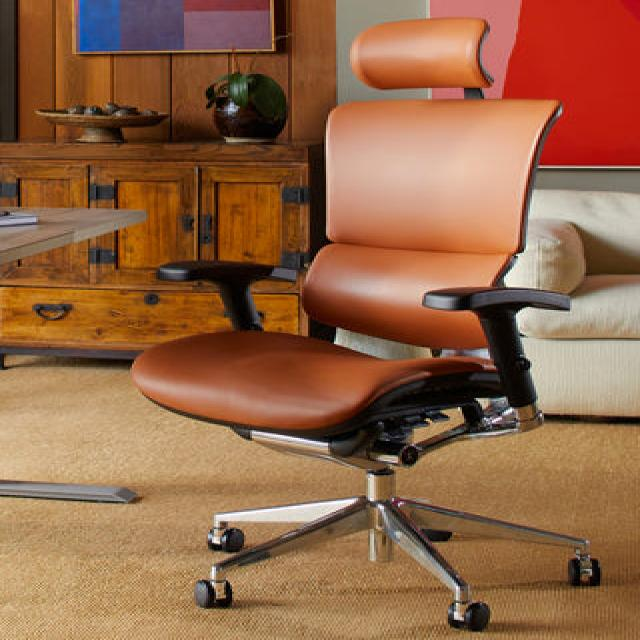chair: (128, 15, 600, 631)
